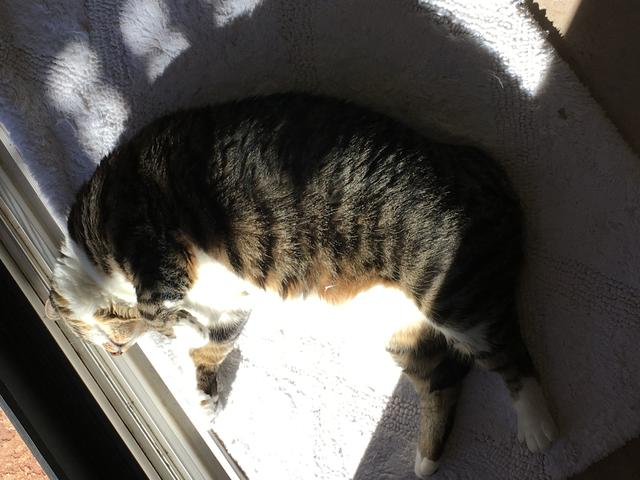playdoh: (41, 97, 561, 475)
